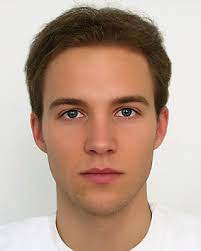face: (20, 3, 181, 226)
